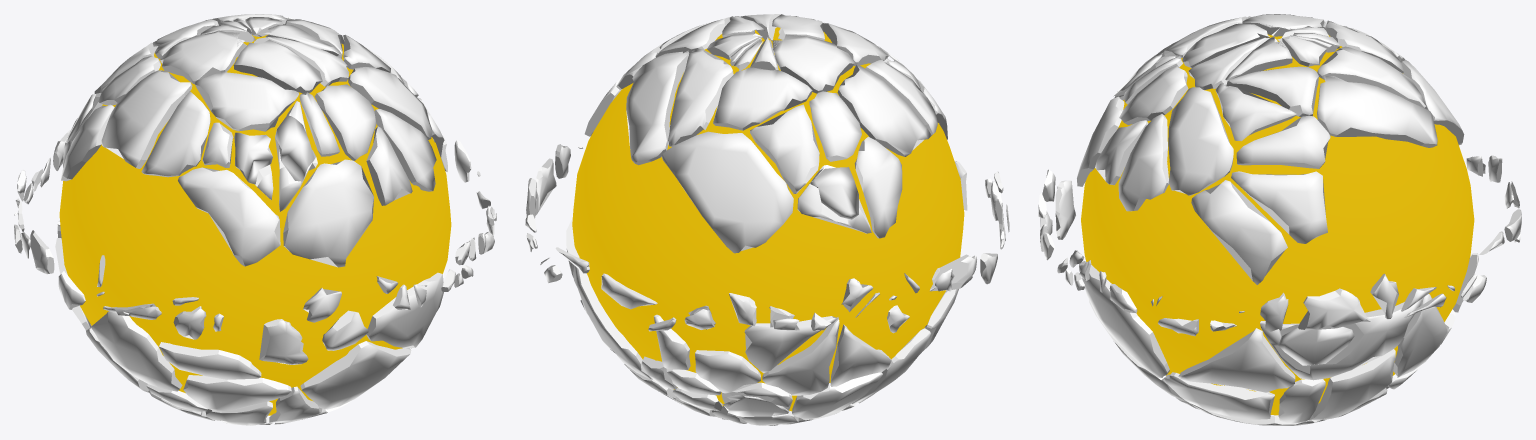
Rendered from Termanation.glb.
The picture shows the model from 3 angles, left to right: view 1: azimuth 30°, elevation 25°; view 2: azimuth 150°, elevation 25°; view 3: azimuth 270°, elevation 25°; orthographic projection.
Parts seen in each view (by area): view 1: Sphere, Sphere_cell.085, Sphere_cell.016, Sphere_cell.060, Sphere_cell.073, Sphere_cell.031, Sphere_cell.059, Sphere_cell.018, Sphere_cell.045, Sphere_cell.093, Sphere_cell.086, Sphere_cell.010 (+31 smaller); view 2: Sphere, Sphere_cell.056, Sphere_cell.035, Sphere_cell.060, Sphere_cell.052, Sphere_cell.084, Sphere_cell.021, Sphere_cell.002, Sphere_cell.086, Sphere_cell.043, Sphere_cell.048, Sphere_cell.076 (+32 smaller); view 3: Sphere, Sphere_cell.035, Sphere_cell.063, Sphere_cell.096, Sphere_cell.012, Sphere_cell.039, Sphere_cell.095, Sphere_cell.045, Sphere_cell.008, Sphere_cell.055, Sphere_cell.046, Sphere_cell.036 (+26 smaller).
Boxes of the visible parts, bbox=[...] form: Sphere: bbox=[59, 35, 451, 415]; Sphere_cell.085: bbox=[283, 159, 373, 267]; Sphere_cell.016: bbox=[178, 167, 280, 266]; Sphere_cell.060: bbox=[101, 70, 192, 168]; Sphere_cell.073: bbox=[194, 72, 298, 131]; Sphere_cell.031: bbox=[300, 341, 411, 409]; Sphere_cell.059: bbox=[91, 311, 182, 391]; Sphere_cell.018: bbox=[141, 91, 210, 177]; Sphere_cell.045: bbox=[366, 272, 443, 347]; Sphere_cell.093: bbox=[314, 84, 376, 160]; Sphere_cell.086: bbox=[160, 30, 246, 84]; Sphere_cell.010: bbox=[233, 39, 322, 93]; Sphere: bbox=[572, 27, 964, 411]; Sphere_cell.056: bbox=[661, 131, 793, 253]; Sphere_cell.035: bbox=[626, 50, 689, 165]; Sphere_cell.060: bbox=[837, 64, 931, 156]; Sphere_cell.052: bbox=[713, 67, 812, 130]; Sphere_cell.084: bbox=[668, 48, 733, 146]; Sphere_cell.021: bbox=[750, 104, 819, 193]; Sphere_cell.002: bbox=[854, 136, 902, 238]; Sphere_cell.086: bbox=[772, 34, 854, 93]; Sphere_cell.043: bbox=[762, 317, 839, 395]; Sphere_cell.048: bbox=[809, 91, 861, 161]; Sphere_cell.076: bbox=[744, 316, 837, 373]; Sphere: bbox=[1081, 34, 1474, 415]; Sphere_cell.035: bbox=[1317, 75, 1437, 147]; Sphere_cell.063: bbox=[1168, 87, 1233, 195]; Sphere_cell.096: bbox=[1191, 180, 1287, 284]; Sphere_cell.012: bbox=[1231, 171, 1327, 243]; Sphere_cell.039: bbox=[1260, 299, 1421, 380]; Sphere_cell.095: bbox=[1178, 328, 1295, 392]; Sphere_cell.045: bbox=[1079, 261, 1169, 377]; Sphere_cell.008: bbox=[1236, 115, 1330, 168]; Sphere_cell.055: bbox=[1118, 114, 1168, 211]; Sphere_cell.046: bbox=[1309, 349, 1395, 421]; Sphere_cell.036: bbox=[1164, 372, 1274, 419].
Bounding box in the file's own units: 2.33 × 1.98 × 2.32.
